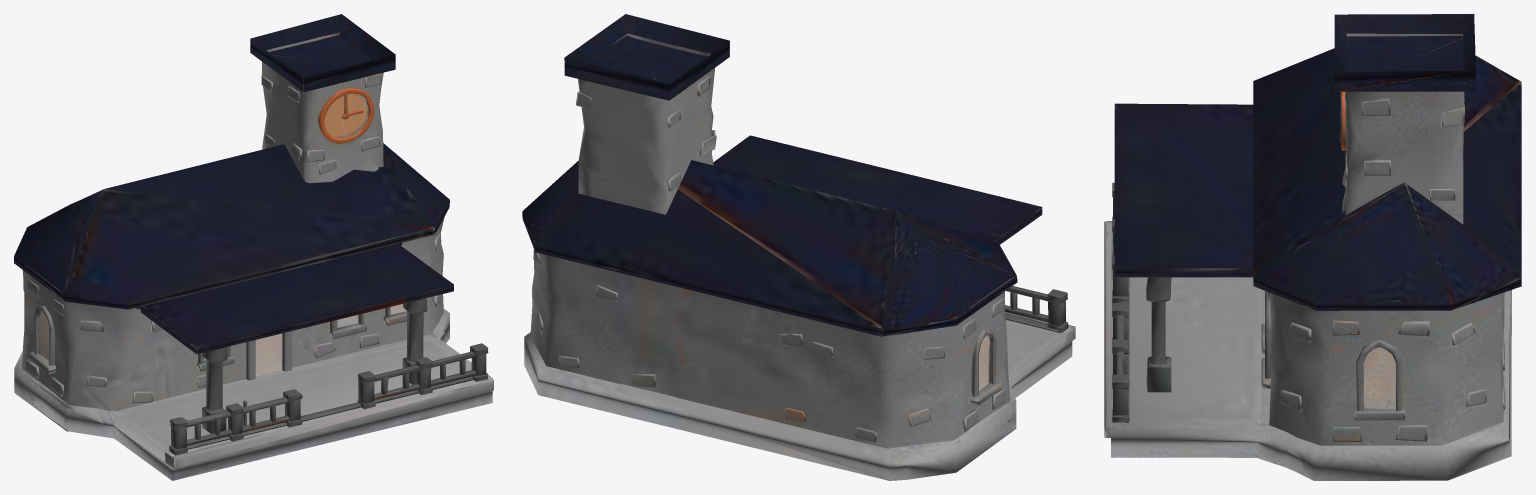
File: 36-train-station.glb
3 views of the same model, side by side, from view 1: azimuth 30°, elevation 25°; view 2: azimuth 150°, elevation 25°; view 3: azimuth 270°, elevation 25° (orthographic). The views are drawn at different scales.
Visible parts, largest first — view 1: geometry_0; view 2: geometry_0; view 3: geometry_0.
Boxes of the visible parts, x1,y1,x2,y2 form: geometry_0: (14, 14, 493, 480); geometry_0: (522, 14, 1075, 480); geometry_0: (1104, 14, 1521, 480).
Size of the model in its own units: 0.957 by 0.6841 by 0.6801.
1 material, 1 textured.
